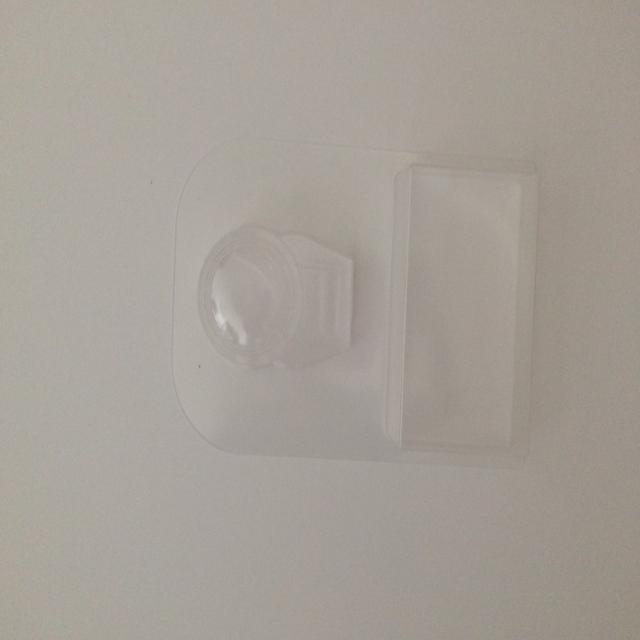plastic: (197, 222, 354, 371)
